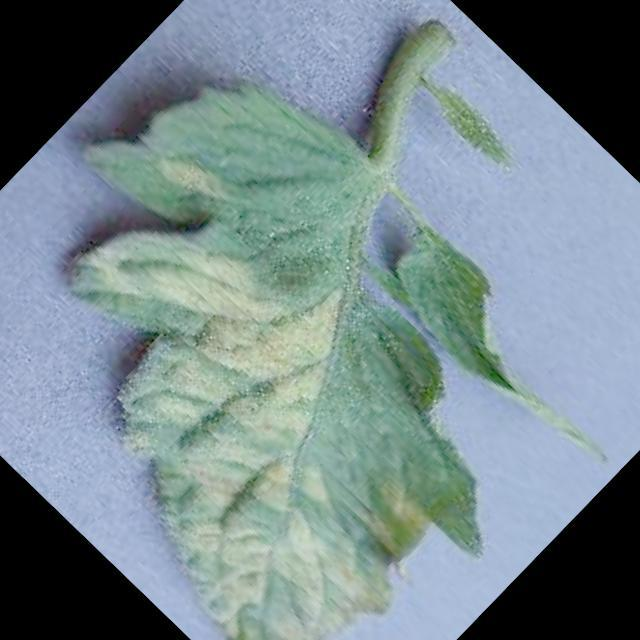Tomato mold leaf: (0, 5, 628, 640)
